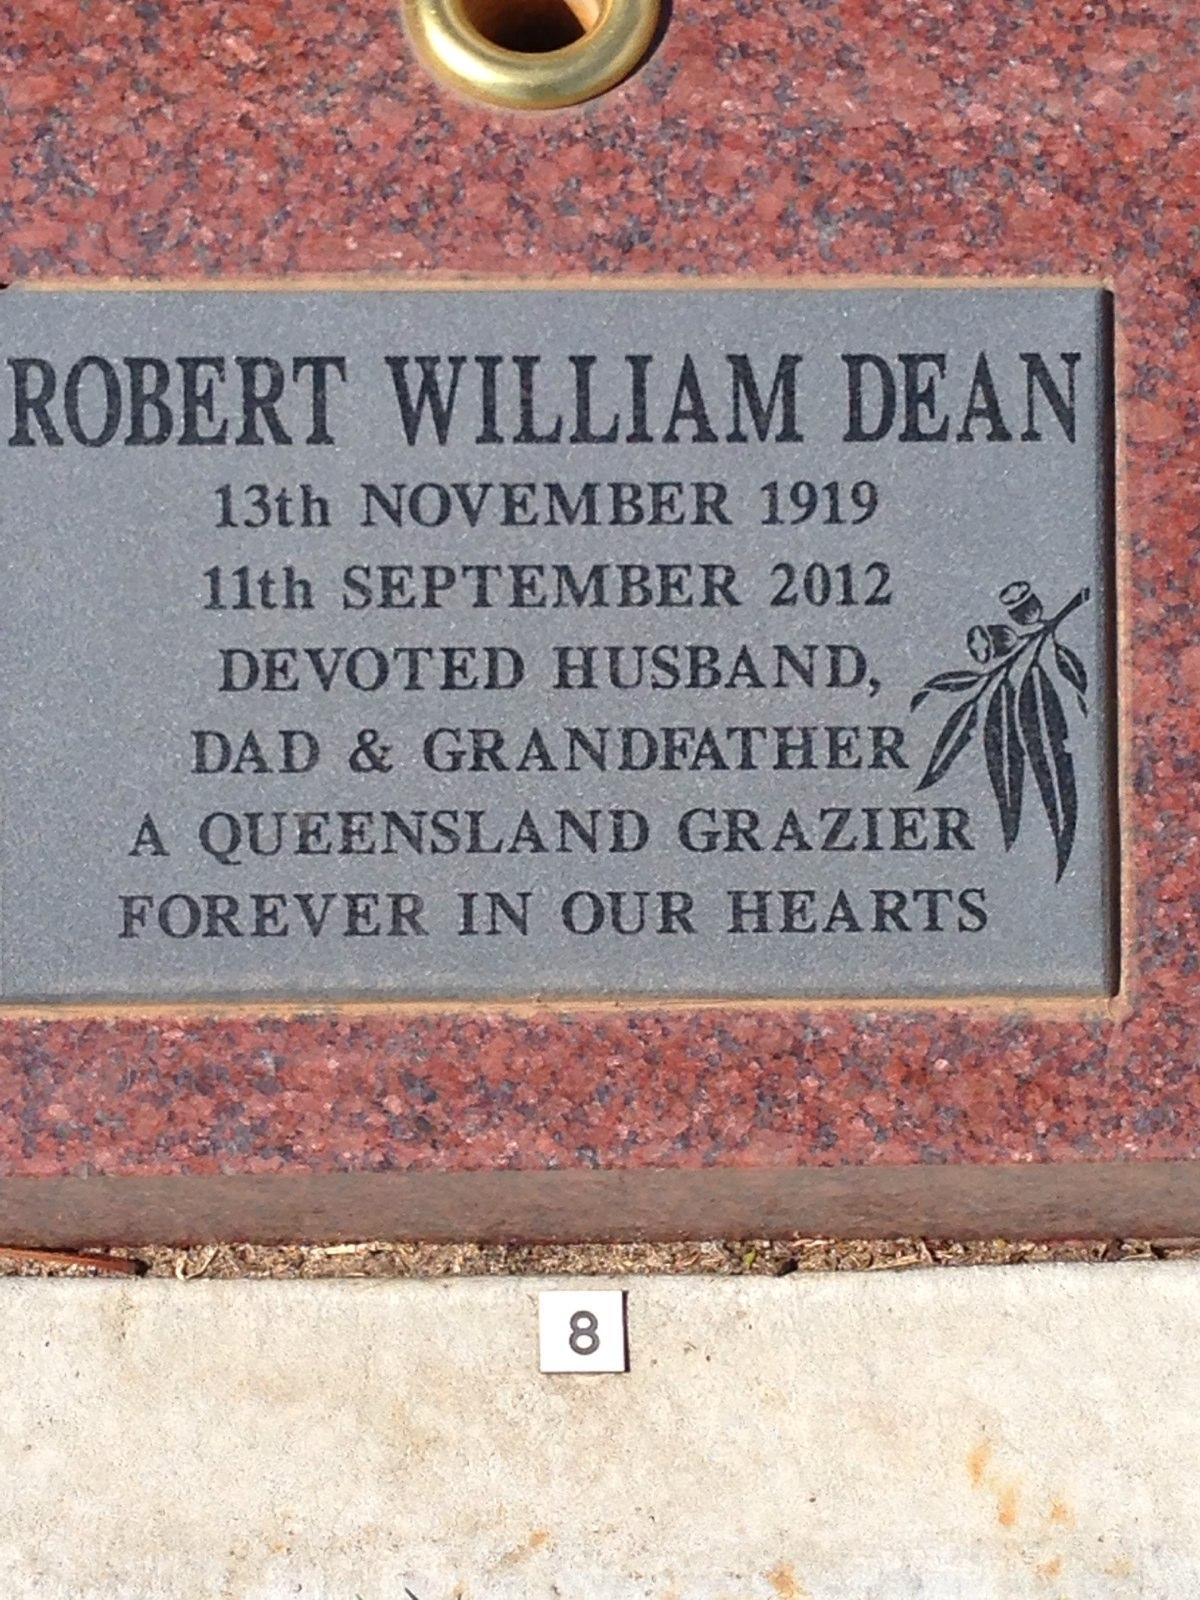plaque: (0, 267, 1126, 1015)
